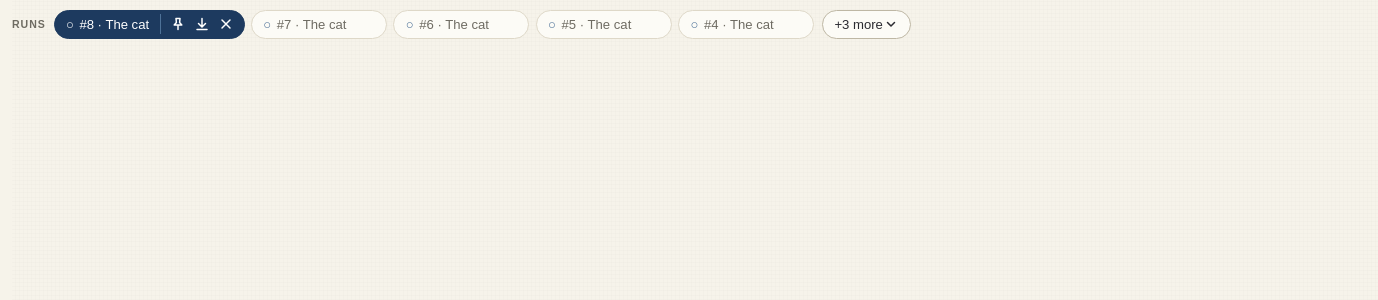
Test: an outside click closes the list
The width and height of the screenshot is (1378, 300).
Click the button with test id "run-more" at (867,24), box [822, 10, 911, 39]
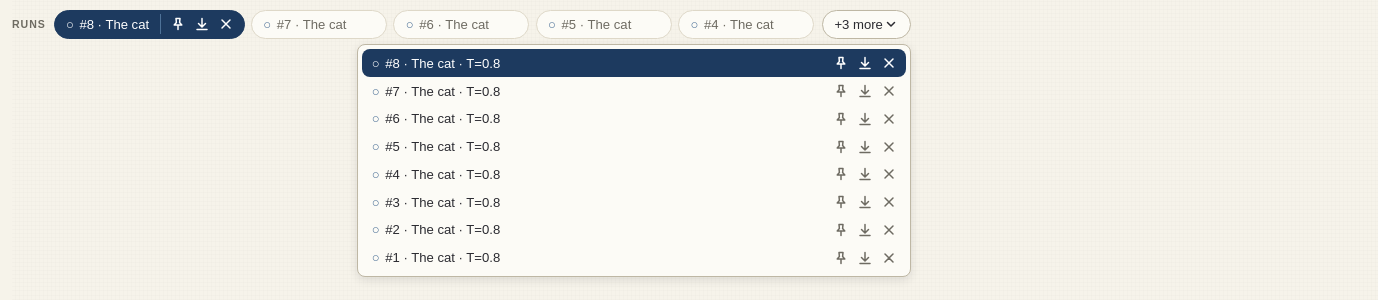
Press the mouse on the element that starts with "Runs" at (695,24), box [12, 8, 1377, 41]
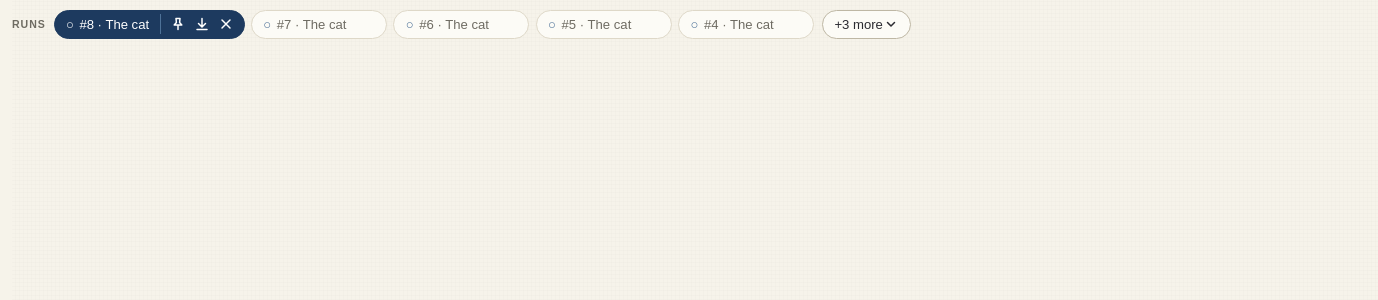
Expected: the element with test id "run-list" is gone
